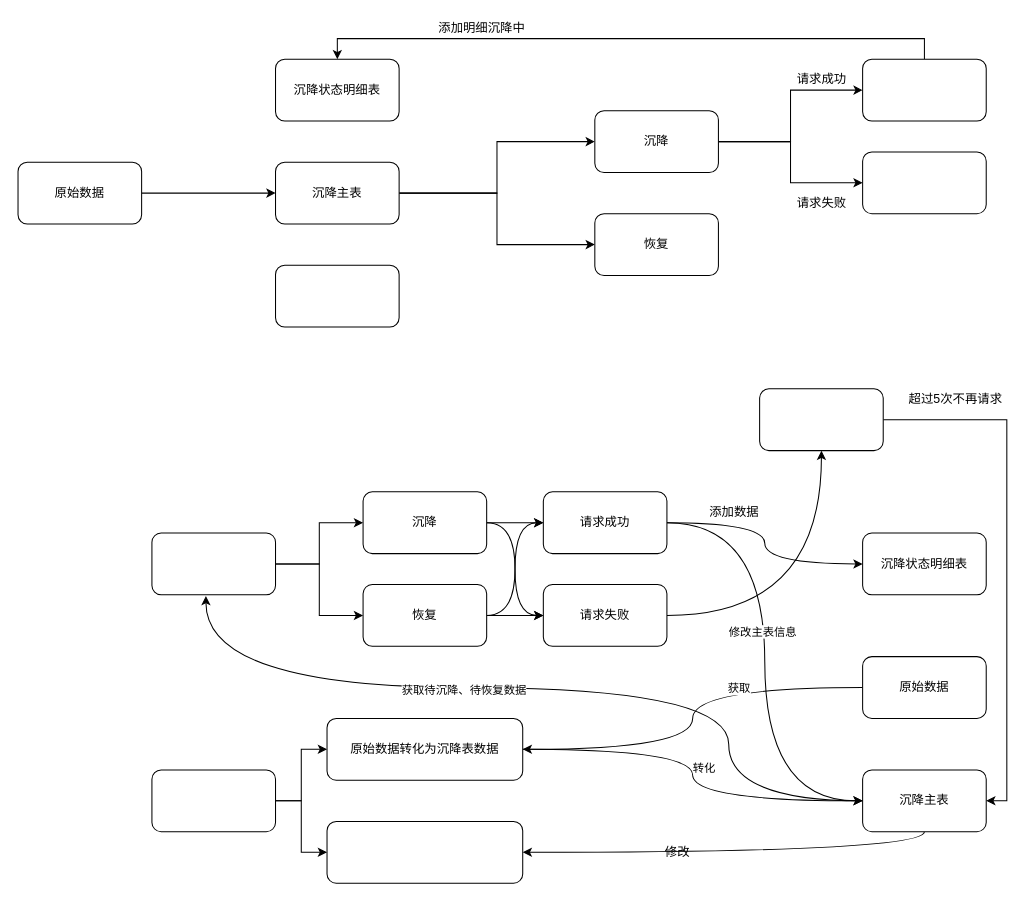
Some shapes in this 1033 by 901 pixel diagram are drawn without their labels. Each missing label, with the centre of its shape:
"修改主表为重试，等待下次请求" goes at [924,182].
"修改主表明细为重试" goes at [821,419].
"对齐当前状态和目标状态" goes at [424,851].
"店铺信息表" goes at [336,295].
"沉降中" goes at [924,89].
"沉降定时任务" goes at [213,563].
"获取数据定时任务" goes at [213,800].
